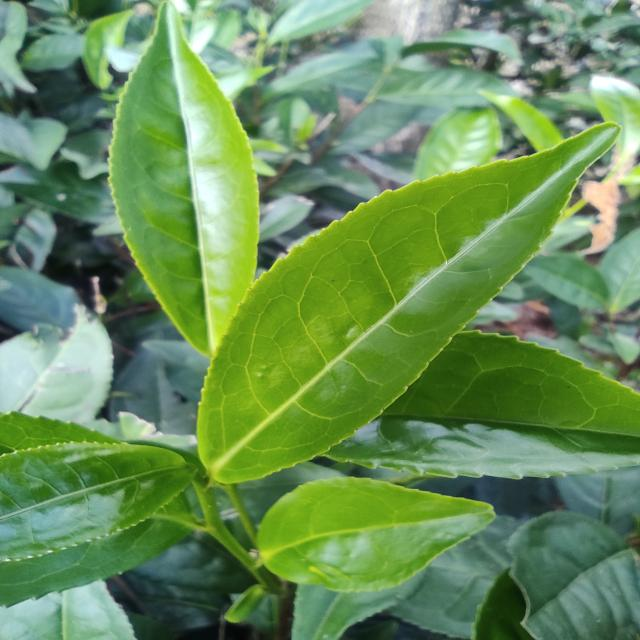Category B(2-4 days): (191, 114, 625, 487)
